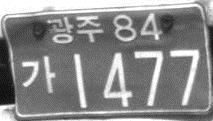1: (71, 50, 90, 110)
4: (100, 51, 132, 107), (139, 12, 163, 40)
7: (129, 47, 165, 107), (168, 47, 202, 107)
8: (111, 13, 137, 44)
가: (20, 54, 57, 96)
광주_O: (46, 13, 103, 47)
